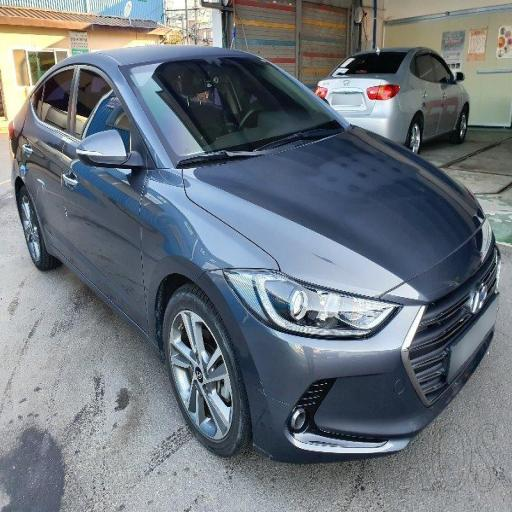scratch: (70, 74, 294, 344)
